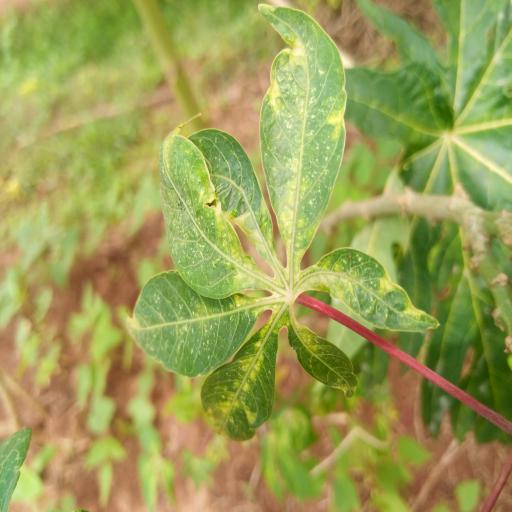Cassava_Mosaic: (125, 2, 439, 444)
